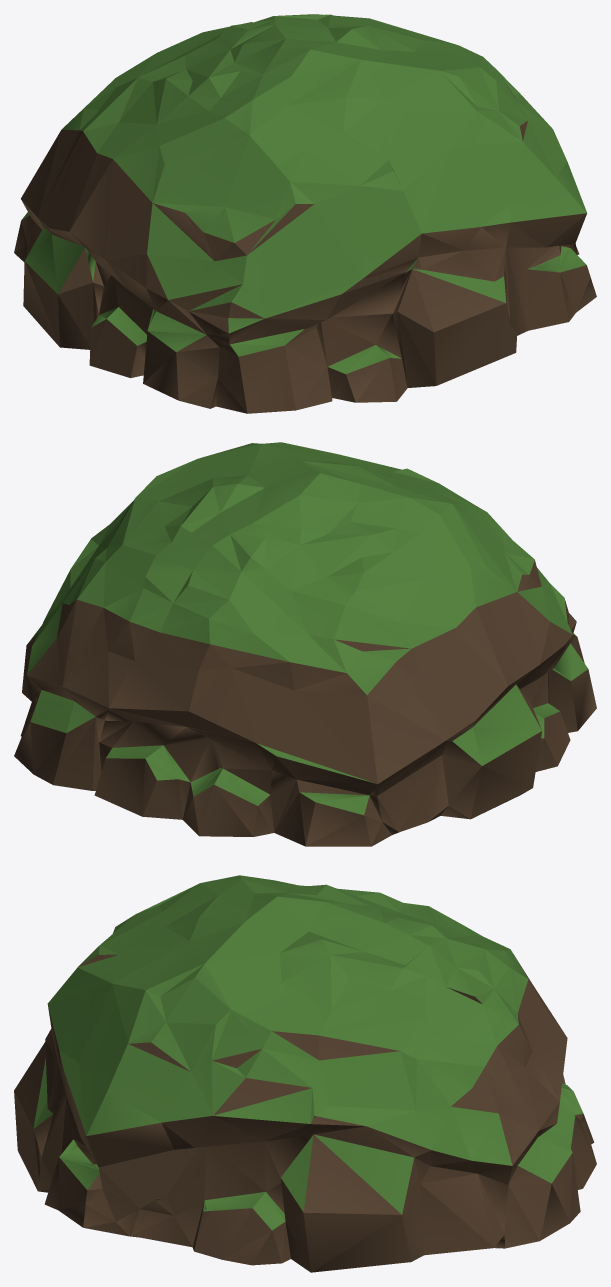
Rendered from mdvl_nature_mound_01.glb.
3 views of the same model, one above another, from view 1: azimuth 30°, elevation 25°; view 2: azimuth 150°, elevation 25°; view 3: azimuth 270°, elevation 25° (orthographic). The views are drawn at different scales.
Parts seen in each view (by area): view 1: mdvl_nature_mound_01; view 2: mdvl_nature_mound_01; view 3: mdvl_nature_mound_01.
Boxes of the visible parts, x1=… form: mdvl_nature_mound_01: x1=14, y1=14, x2=596, y2=413; mdvl_nature_mound_01: x1=14, y1=442, x2=596, y2=846; mdvl_nature_mound_01: x1=14, y1=875, x2=596, y2=1272.
Bounding box in the file's own units: 3.53 × 1.75 × 3.5.
Materials: 1 (1 with a texture image).
